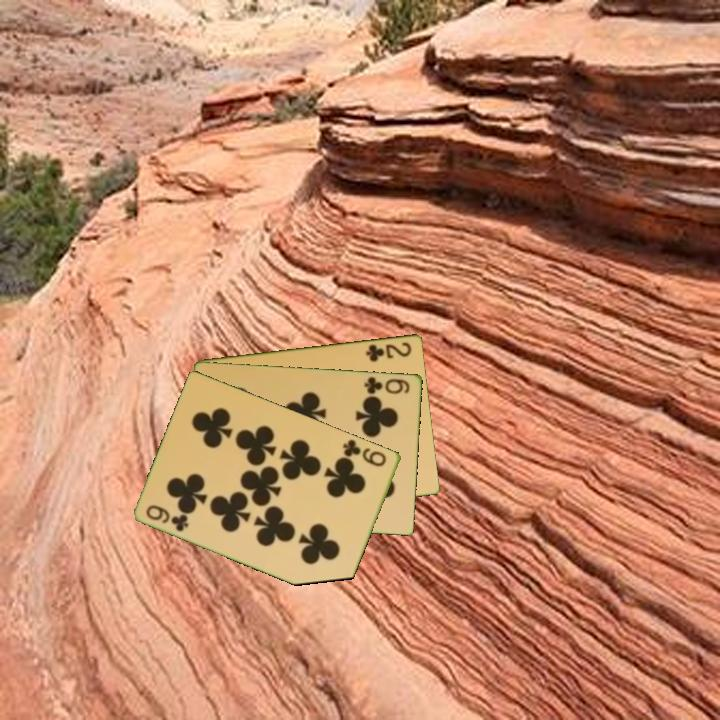2c: (362, 338, 414, 364)
6c: (361, 373, 413, 397)
9c: (339, 435, 390, 469), (143, 501, 192, 535)
